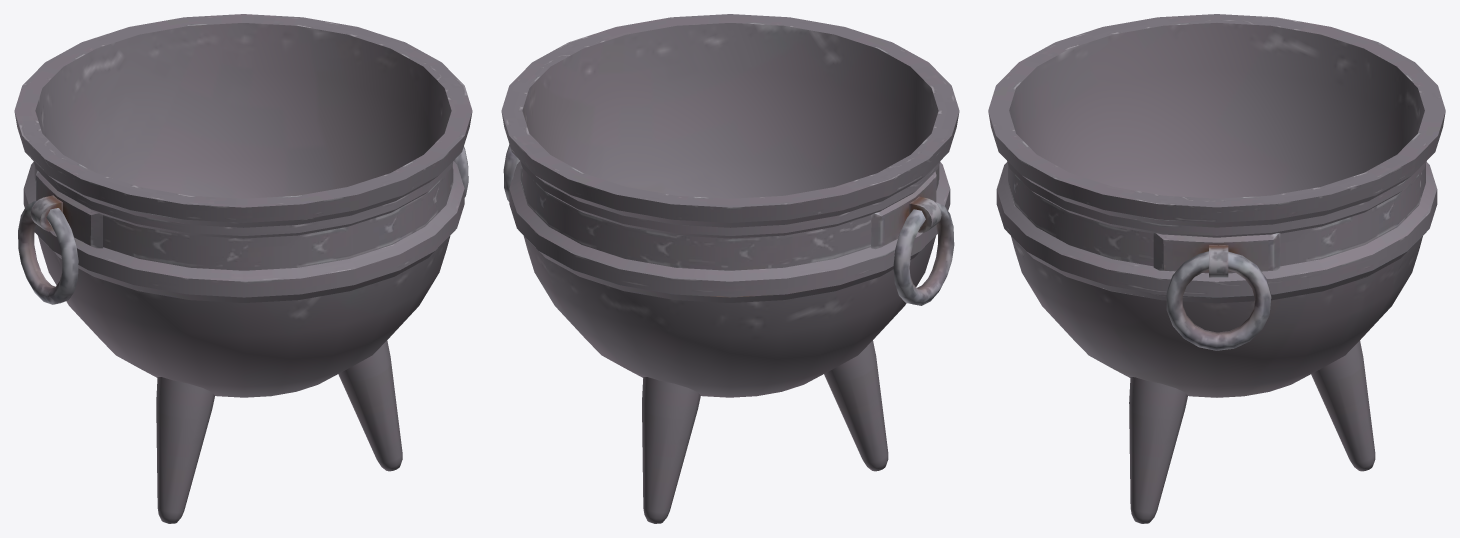
File: cauldron.glb
3 views of the same model, side by side, from view 1: azimuth 30°, elevation 25°; view 2: azimuth 150°, elevation 25°; view 3: azimuth 270°, elevation 25° (orthographic).
Visible parts, largest first — view 1: Cauldron; view 2: Cauldron; view 3: Cauldron.
Boxes of the visible parts, x1,y1,x2,y2 form: Cauldron: (14,14,472,523); Cauldron: (501,14,959,523); Cauldron: (988,14,1445,523).
Bounding box in the file's own units: 0.9891 × 0.8156 × 0.9439.
Materials: 1 (1 with a texture image).
